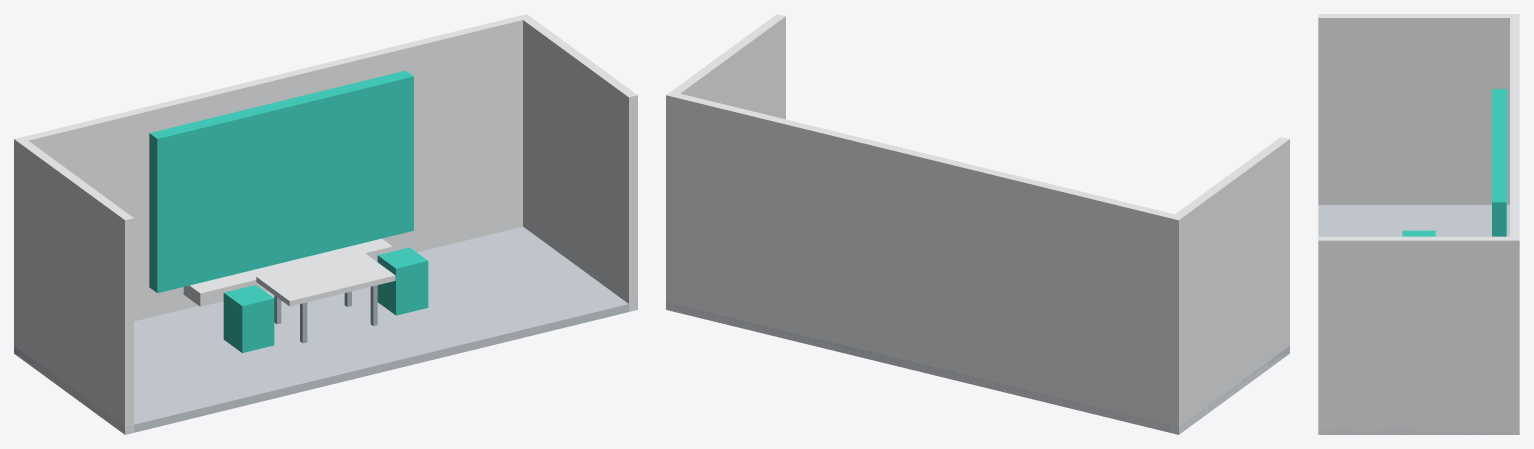
The picture shows the model from 3 angles, left to right: view 1: azimuth 30°, elevation 25°; view 2: azimuth 150°, elevation 25°; view 3: azimuth 270°, elevation 25°; orthographic projection. The views are drawn at different scales.
Visible parts, largest first — view 1: Exhibition Booth Concept; view 2: Exhibition Booth Concept; view 3: Exhibition Booth Concept.
Boxes of the visible parts, x1=… form: Exhibition Booth Concept: x1=14, y1=14, x2=637, y2=434; Exhibition Booth Concept: x1=666, y1=14, x2=1289, y2=434; Exhibition Booth Concept: x1=1318, y1=14, x2=1519, y2=434.
Bounding box in the file's own units: 8 × 3.2 × 3.
